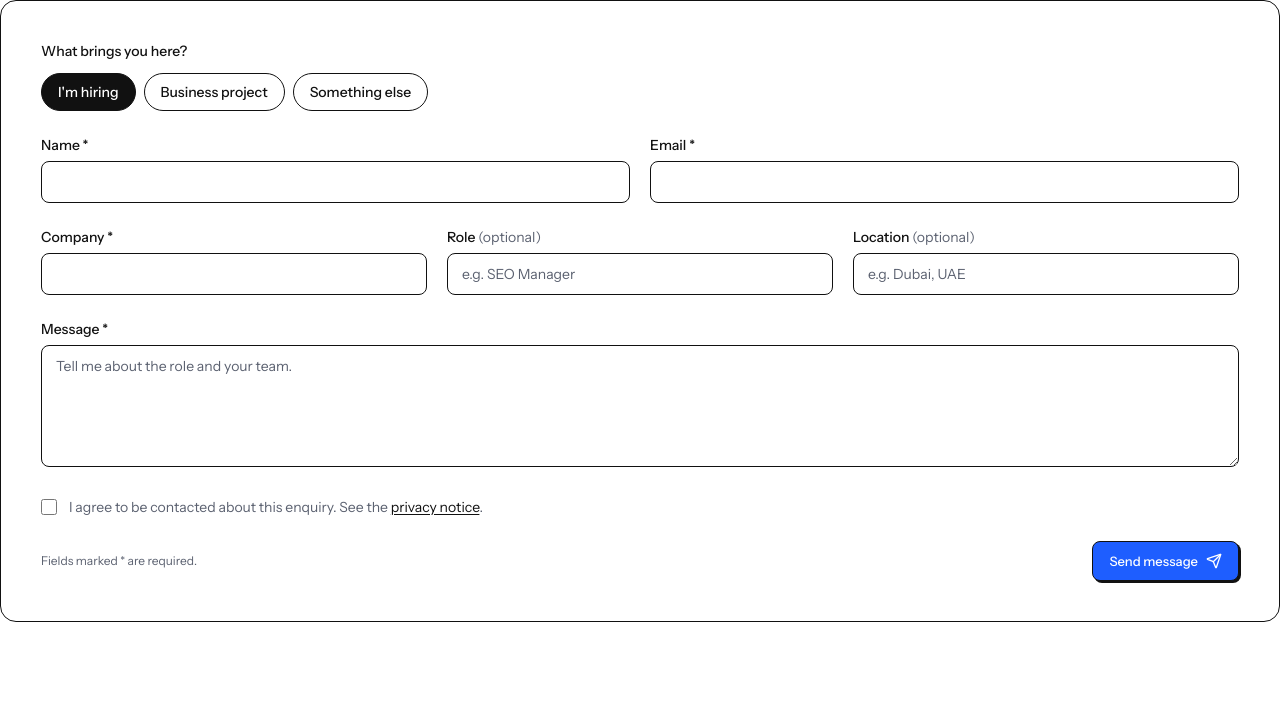
Test: ContactForm › shows field errors instead of submitting an incomplete form
Click the button "Send message" at (1166, 561), box top-left (1092, 541), bottom-right (1239, 581)
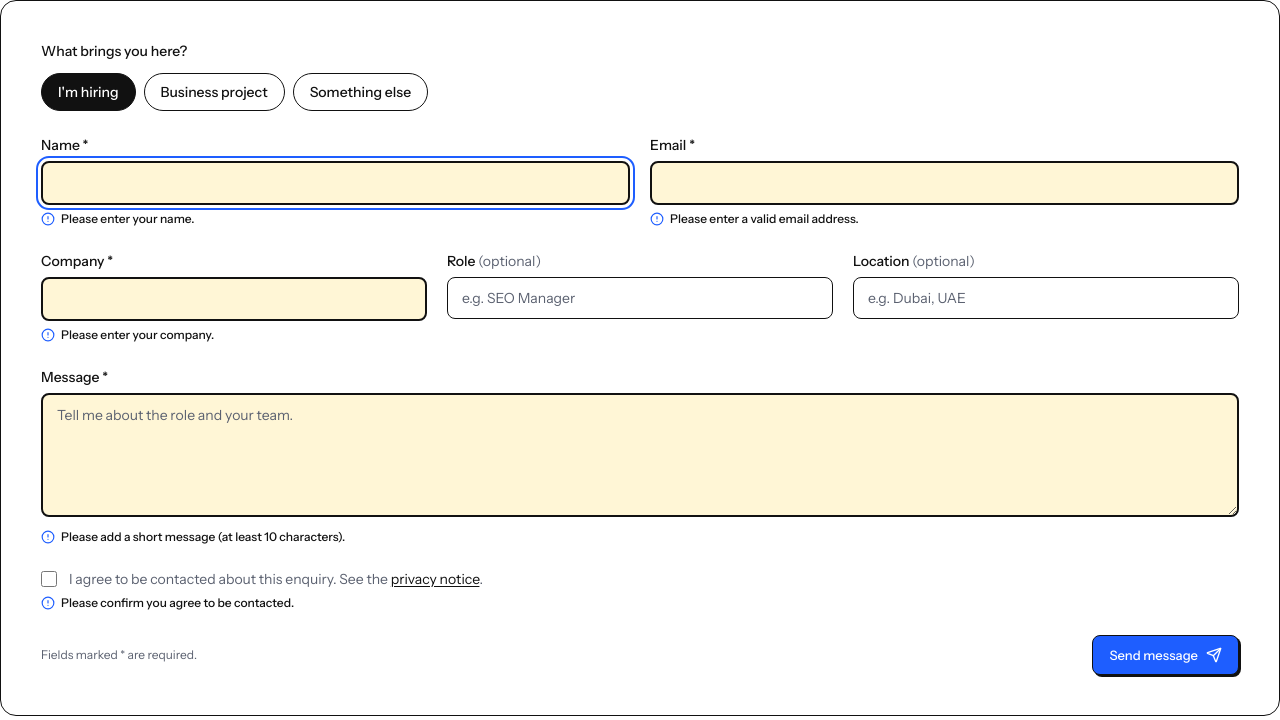
Now the text "Please enter your name." is shown, box top-left (41, 211), bottom-right (194, 226)
